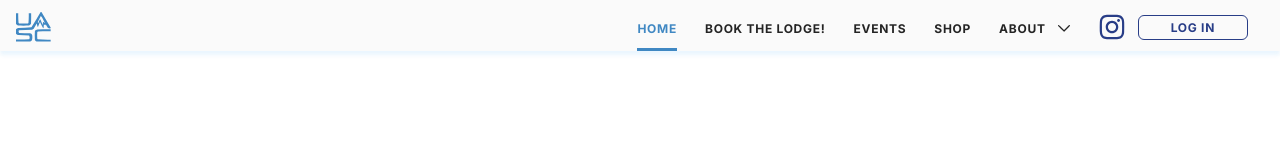
Test: navbar › Should display profile icon when signed in
Click the button with test id "sign-in-button" at (1193, 28), box [1138,15,1248,40]
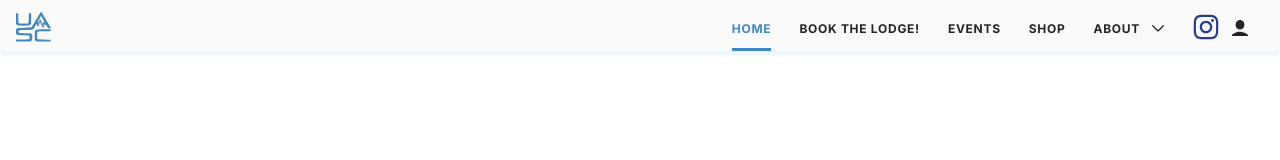
Expected: the button with test id "sign-in-button" is gone
Expected: the icon with test id "profile-icon" is shown, [1232,20,1248,36]
